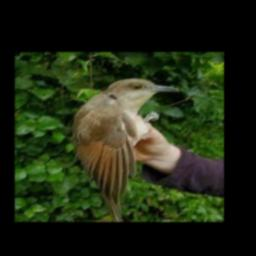Cuckoo: (71, 78, 179, 221)
